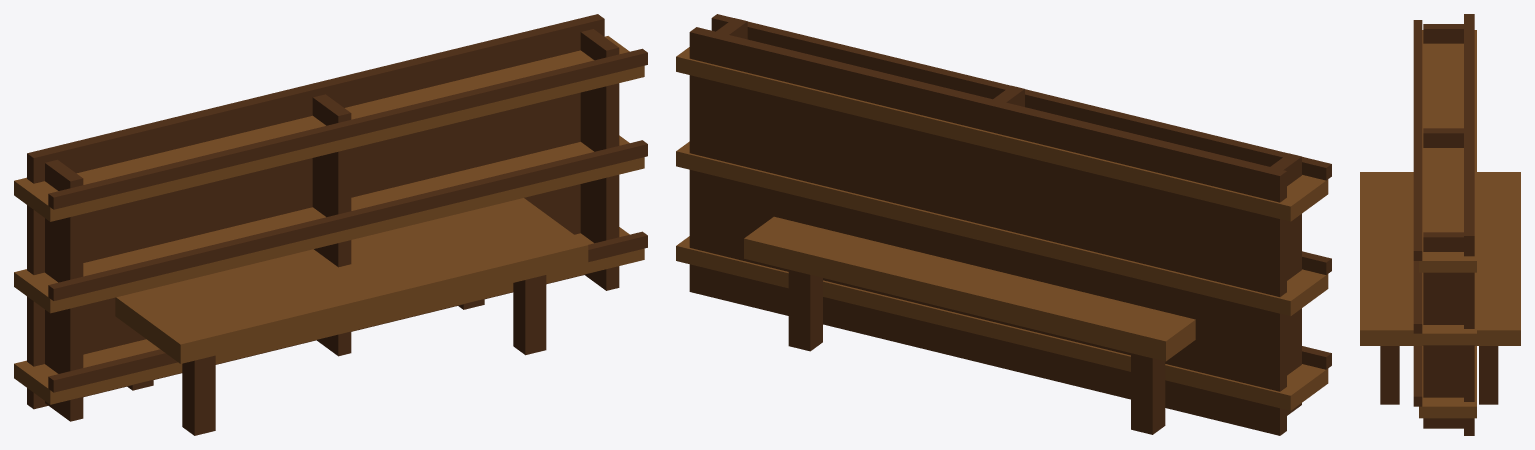
Rendered from shelf_and_table_1.fbx.
The picture shows the model from 3 angles, left to right: view 1: azimuth 30°, elevation 25°; view 2: azimuth 150°, elevation 25°; view 3: azimuth 270°, elevation 25°; orthographic projection. The views are drawn at different scales.
Parts seen in each view (by area): view 1: SCN_04_Shelf_Table_CleanMesh; view 2: SCN_04_Shelf_Table_CleanMesh; view 3: SCN_04_Shelf_Table_CleanMesh.
Part boxes in pixels (box(x1,y1,x2,y2)): SCN_04_Shelf_Table_CleanMesh: box(14, 14, 647, 435); SCN_04_Shelf_Table_CleanMesh: box(676, 14, 1331, 435); SCN_04_Shelf_Table_CleanMesh: box(1360, 14, 1520, 435).
Bounding box in the file's own units: 5.1 × 2.18 × 1.5.
